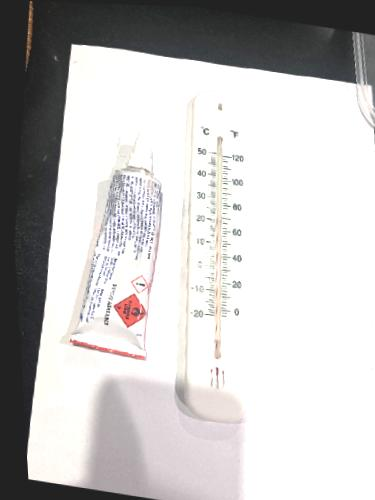thermo: (182, 84, 259, 424)
